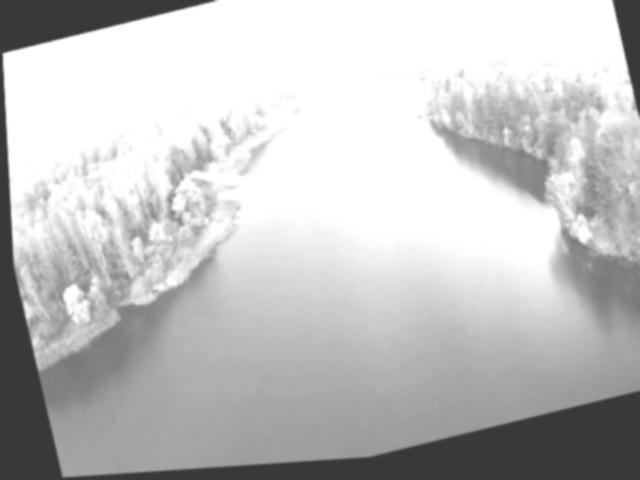hedef: (172, 137, 313, 247)
